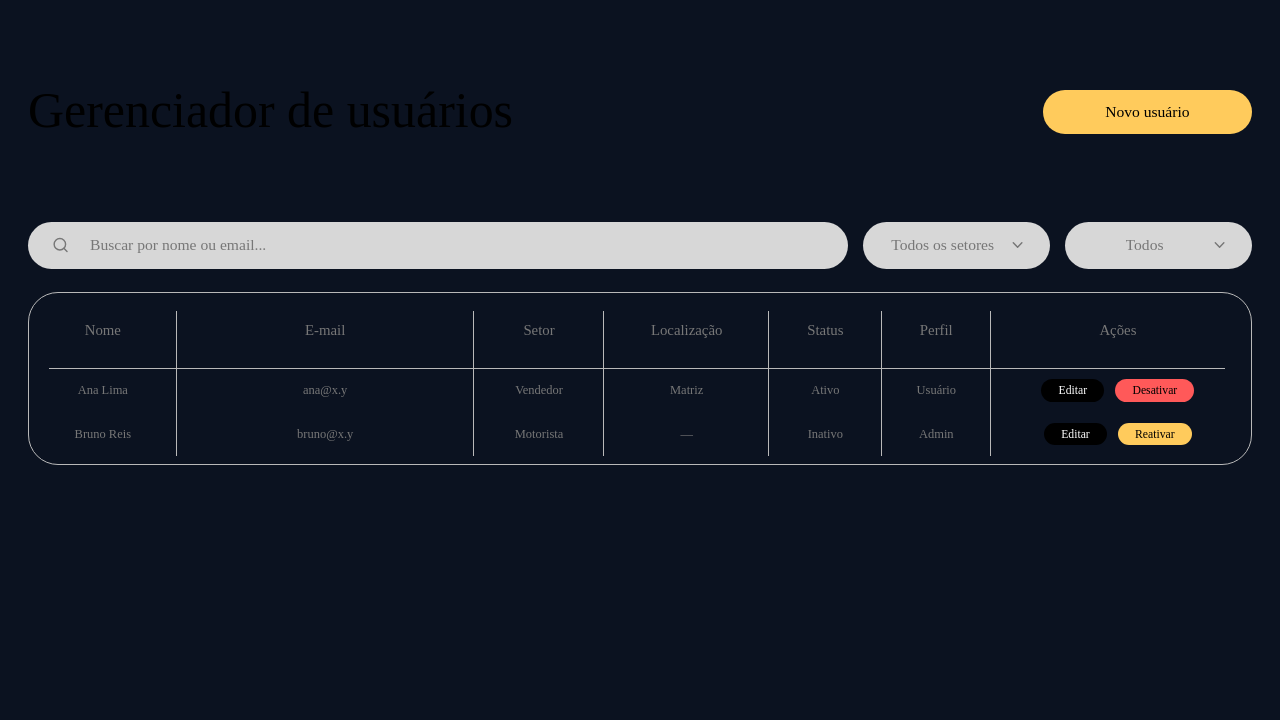
Test: UsuariosView (W1-C04) › e-mail duplicado (409) vira erro inline no formulário
Click the button "Novo usuário".
click(1147, 112)  # box left=1043, top=90, right=1252, bottom=134
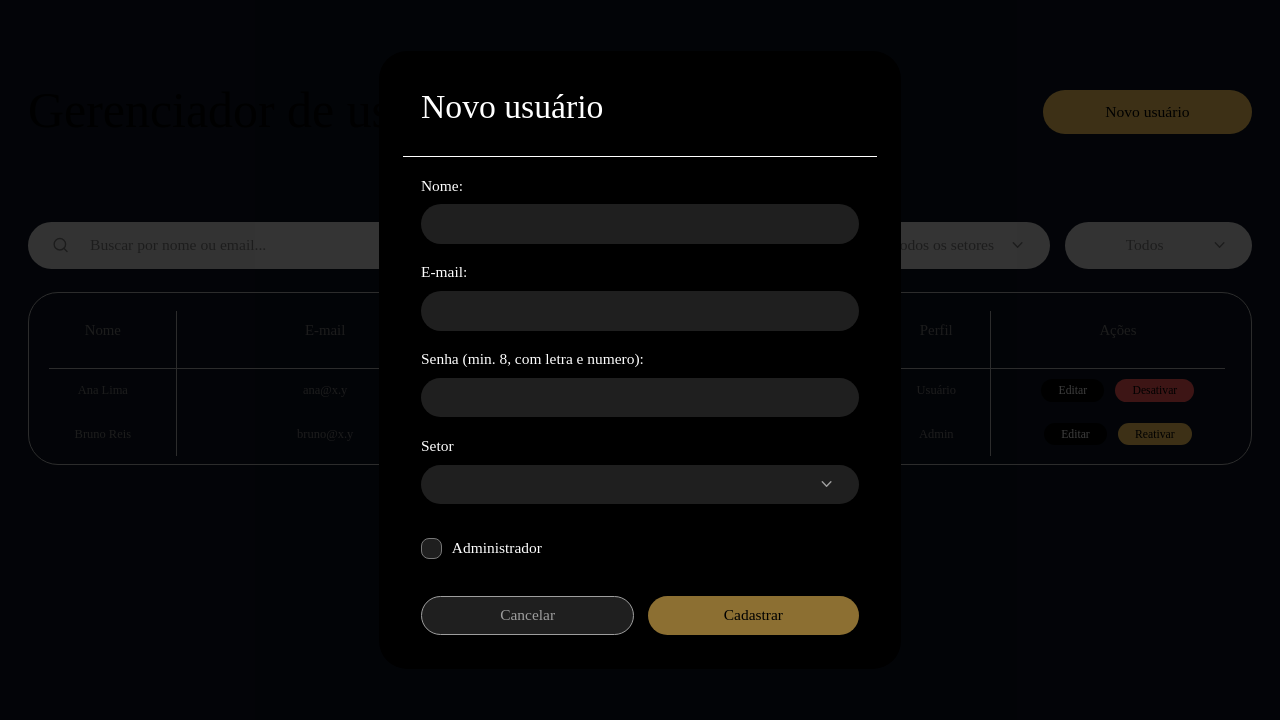
Type "X" into the field labelled "Nome:".
click(640, 224); type("X")  # box left=421, top=204, right=859, bottom=244
Type "dup@x.y" into the field labelled "E-mail:".
click(640, 311); type("dup@x.y")  # box left=421, top=291, right=859, bottom=330
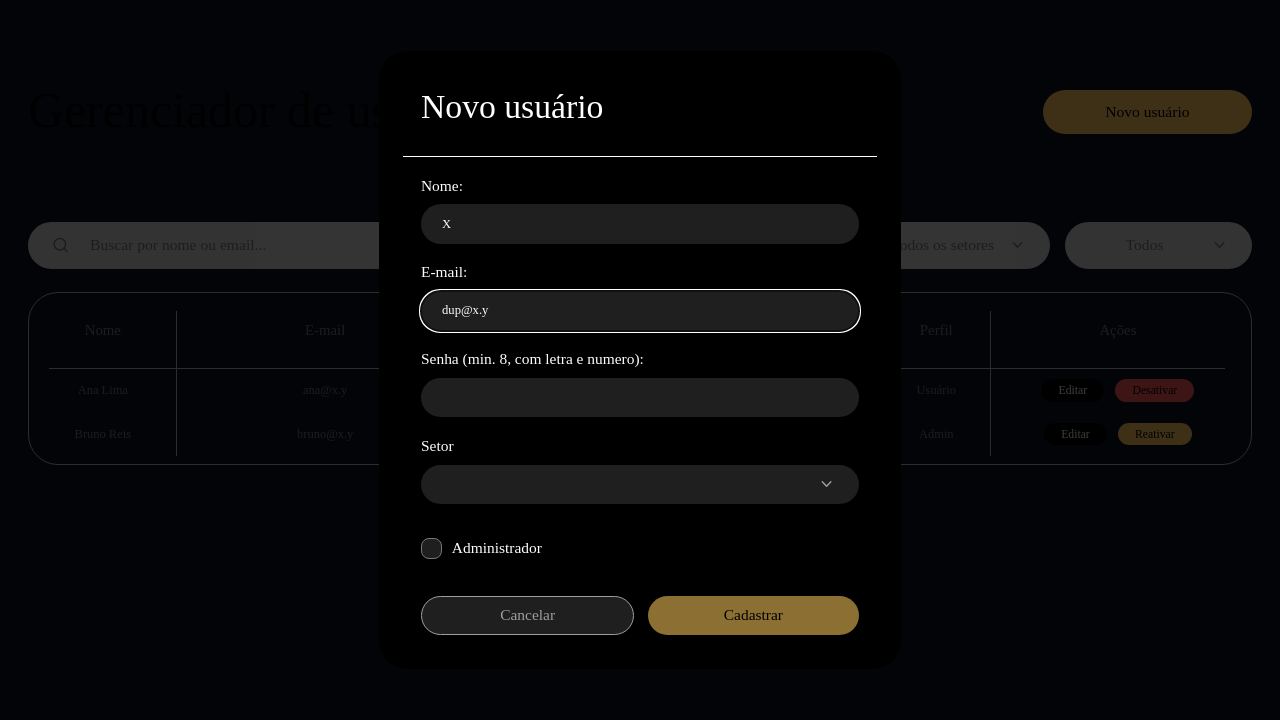
Type "senha-forte-1" into the password field labelled "Senha (min. 8, com letra e numero):".
click(640, 398); type("senha-forte-1")  # box left=421, top=378, right=859, bottom=417
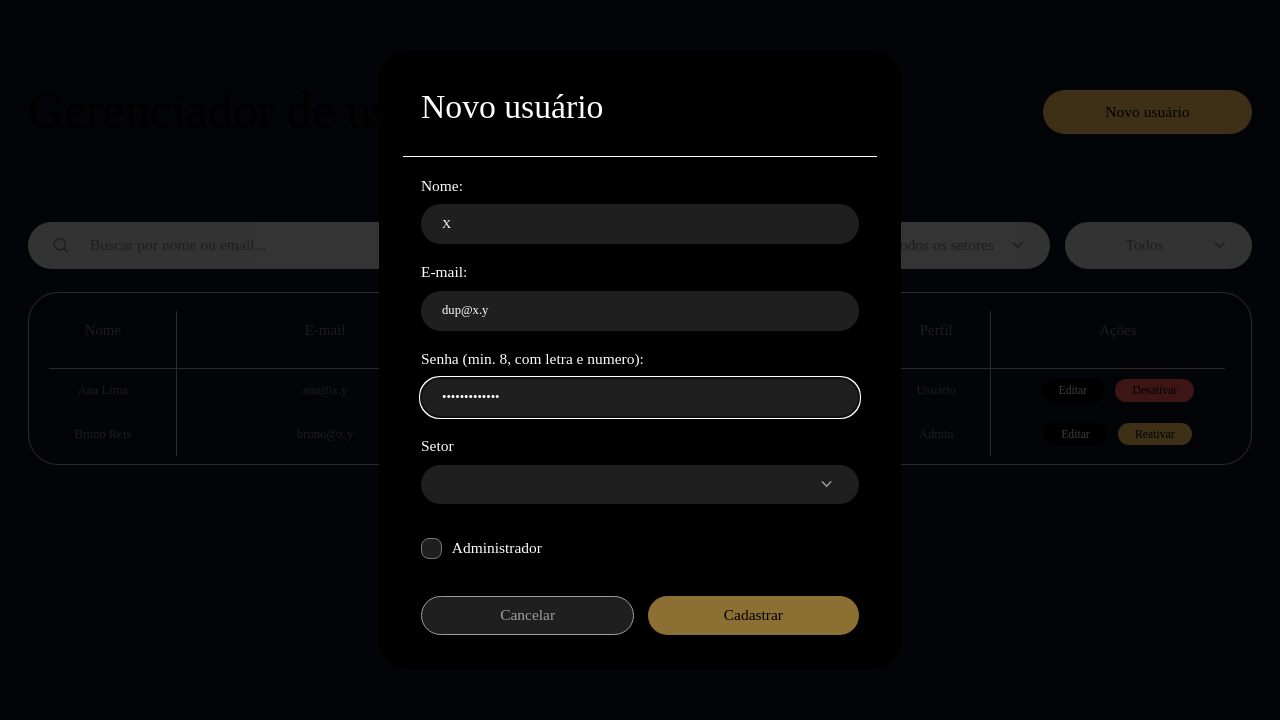
Click the button named "Setor".
click(826, 484)  # box left=421, top=465, right=859, bottom=504
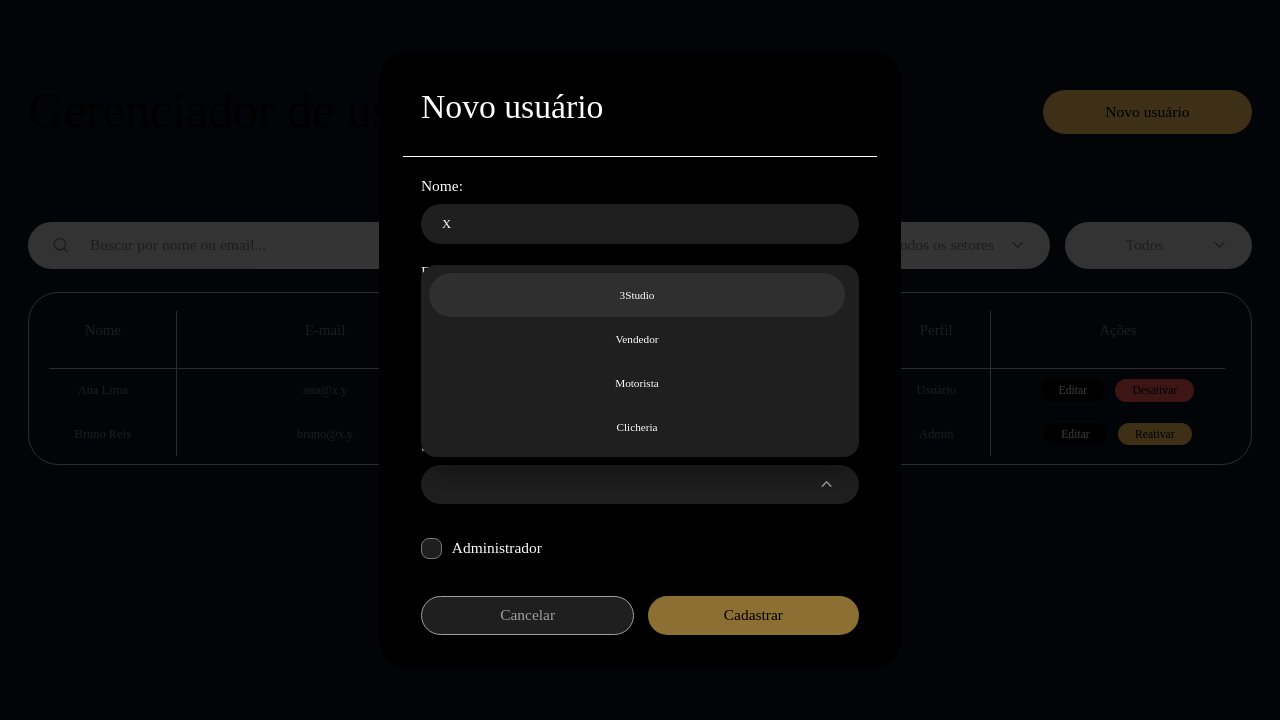
Click the option "Clicheria".
click(637, 427)  # box left=616, top=421, right=658, bottom=433
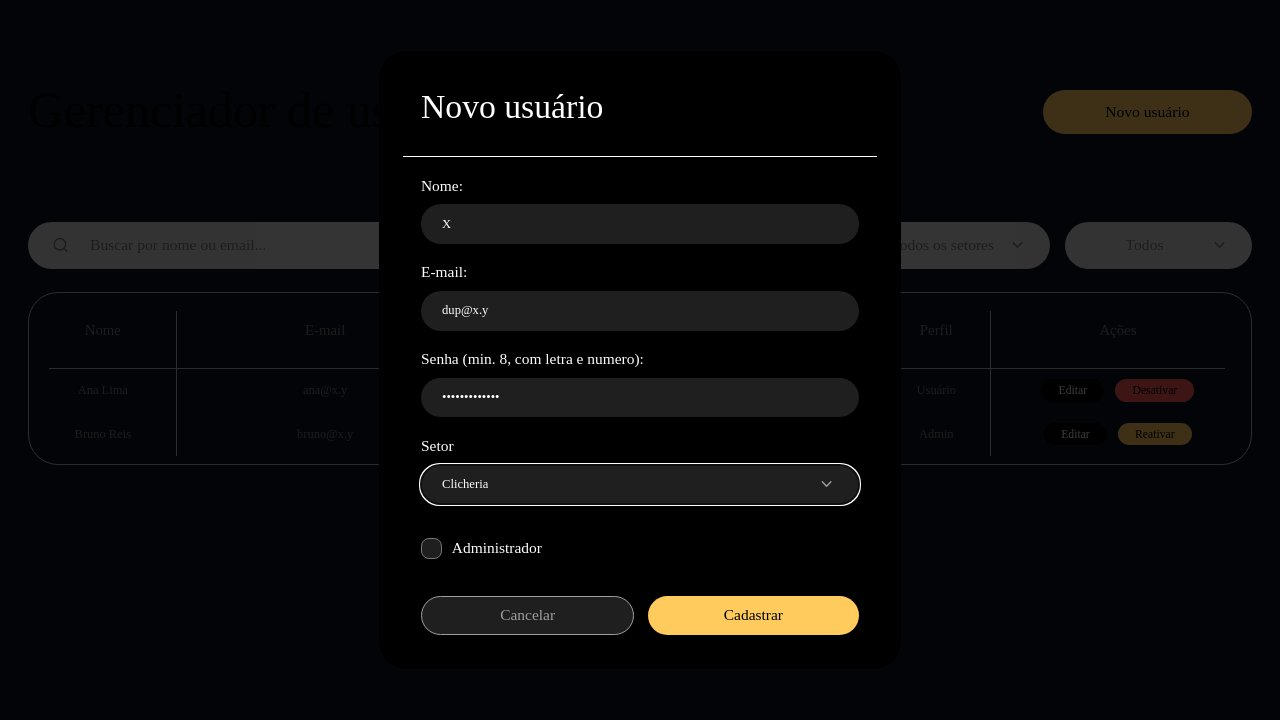
Click the button "Cadastrar".
click(753, 615)  # box left=648, top=596, right=859, bottom=635
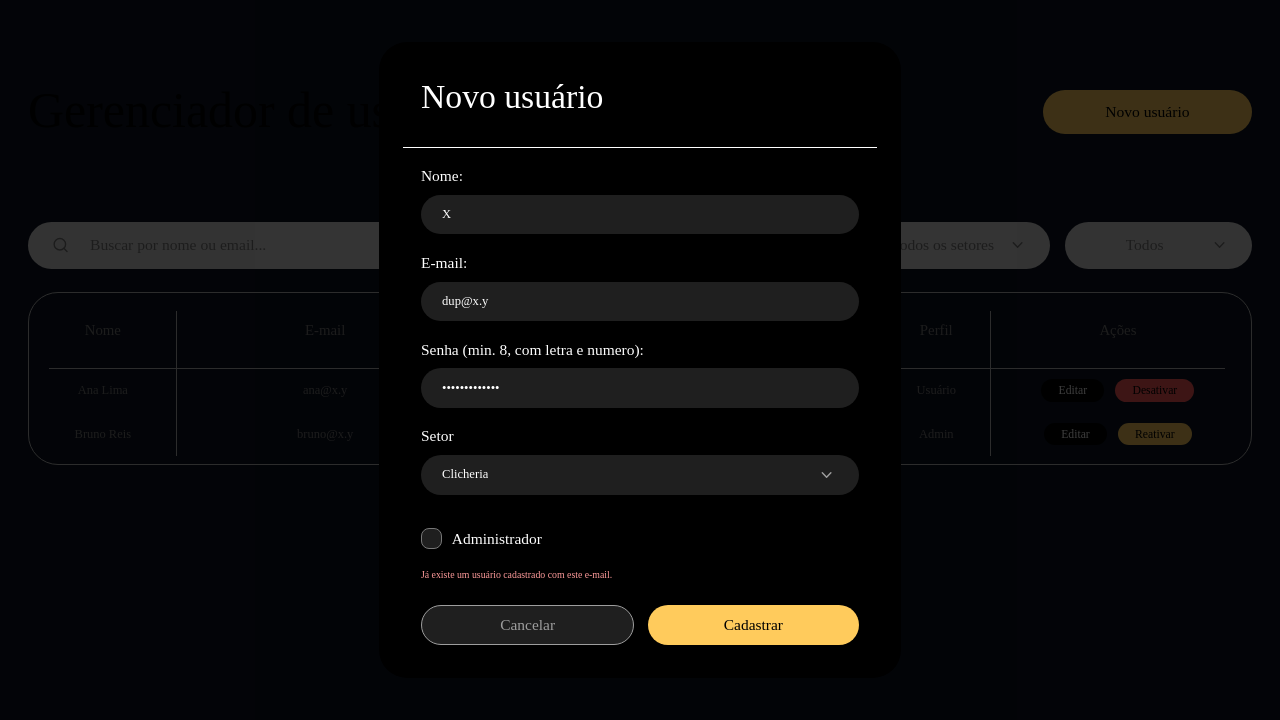
Check: the text "Já existe um usuário cadastrado com este e-mail." is shown, box left=421, top=569, right=612, bottom=580
